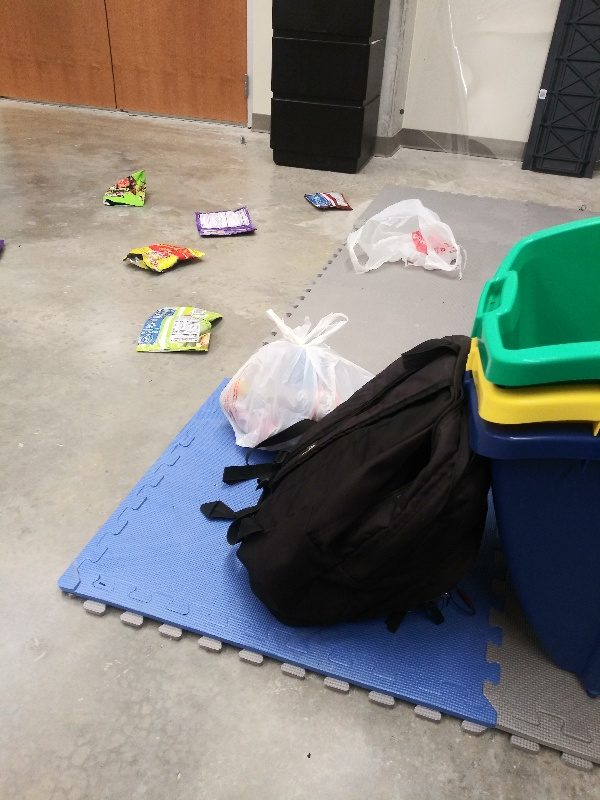bag: (127, 302, 229, 354), (117, 239, 215, 275), (187, 201, 262, 241), (93, 165, 154, 211), (300, 187, 355, 215)
